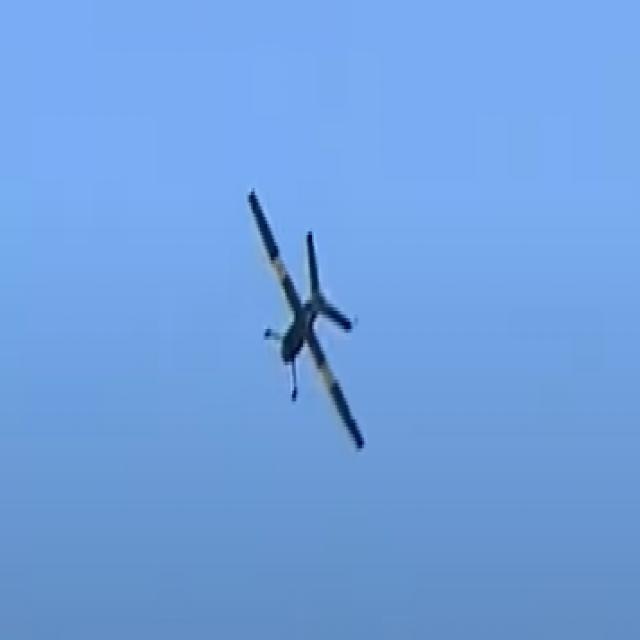iha: (238, 182, 389, 459)
